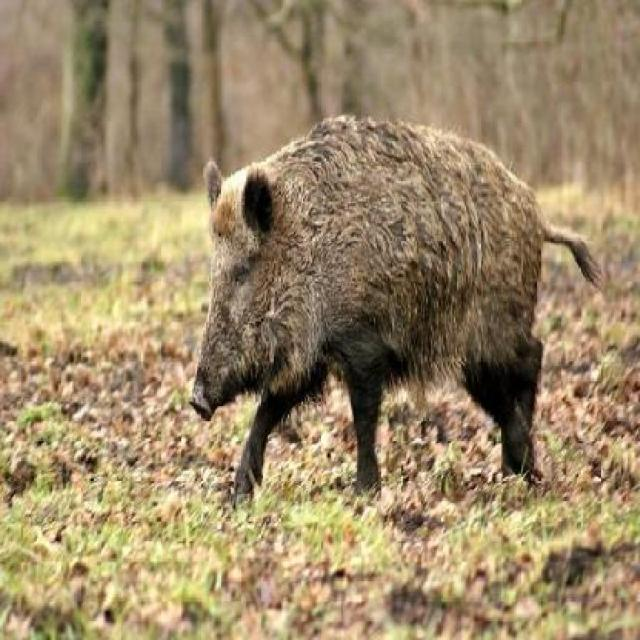wildboar: (186, 104, 608, 518)
